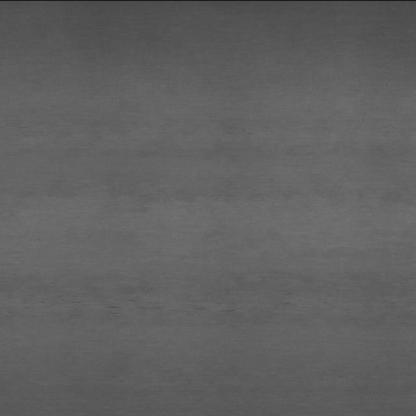silk_spot: (69, 276, 301, 330)
